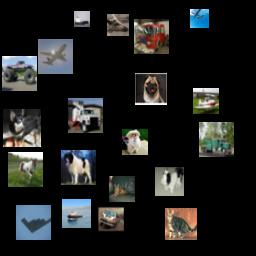airplane: (38, 39, 73, 74), (16, 205, 51, 240), (193, 88, 219, 114), (190, 9, 209, 28)
automobile: (98, 206, 124, 232)
cat: (165, 208, 197, 240), (109, 176, 135, 202)
deer: (107, 14, 129, 36)
dog: (3, 109, 41, 147), (61, 150, 96, 185), (135, 73, 167, 105), (155, 167, 184, 196), (122, 129, 148, 155)
ship: (62, 199, 91, 228), (74, 11, 90, 27)
truck: (68, 98, 103, 133), (199, 122, 234, 157), (134, 19, 169, 54), (2, 56, 37, 91)
